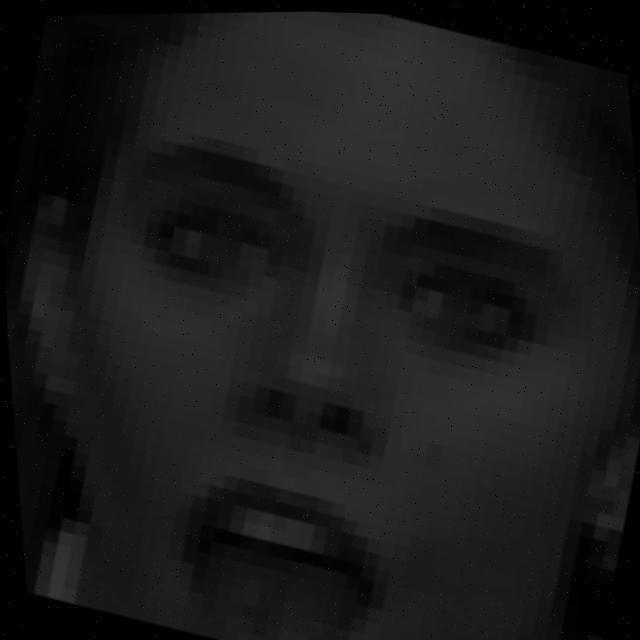Surprised: (65, 33, 557, 640)
